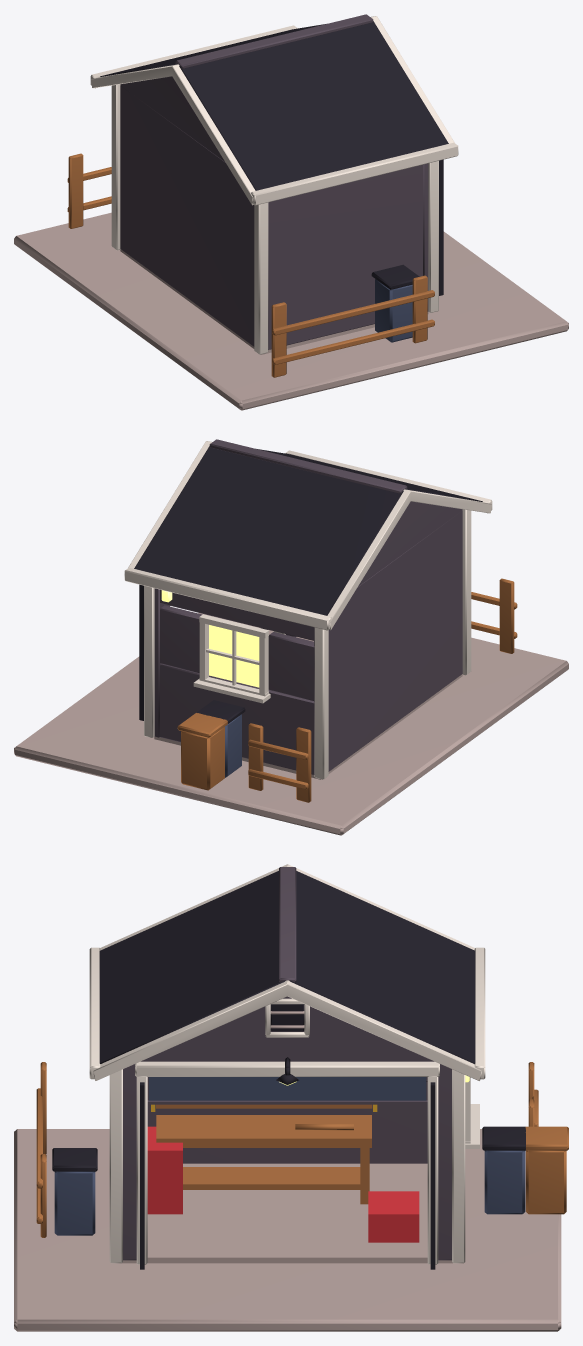
3 renders of one model, top to bottom at view 1: azimuth 30°, elevation 25°; view 2: azimuth 150°, elevation 25°; view 3: azimuth 270°, elevation 25°, orthographic. The views are drawn at different scales.
Parts seen in each view (by area): view 1: body_pal_asphalt, body_pal_sidewalk, roof_pal_uiDark, roof_pal_picketWhite, body_pal_woodWarm, body_pal_picketWhite, roof_pal_asphalt, body_pal_denim, interior_pal_sidewalk, body_pal_uiDark, interior_pal_uiDark; view 2: body_pal_asphalt, body_pal_sidewalk, roof_pal_uiDark, roof_pal_picketWhite, body_pal_woodWarm, body_pal_picketWhite, window_side_pal_picketWhite, window_side_emi_windowGlow, roof_pal_asphalt, body_pal_denim, interior_pal_sidewalk, interior_pal_uiDark (+1 smaller); view 3: body_pal_sidewalk, roof_pal_uiDark, body_pal_asphalt, interior_pal_sidewalk, body_pal_picketWhite, interior_pal_woodWarm, roof_pal_picketWhite, door_main_pal_denim, body_pal_woodWarm, interior_pal_survivorRed, body_pal_denim, body_pal_uiDark (+4 smaller).
Part boxes in pixels (x1,y1,x2,y2): body_pal_asphalt: (120,76,428,349); body_pal_sidewalk: (14,212,568,410); roof_pal_uiDark: (100,21,448,190); roof_pal_picketWhite: (90,16,458,205); body_pal_woodWarm: (67,153,434,377); body_pal_picketWhite: (111,84,438,354); roof_pal_asphalt: (175,14,373,68); body_pal_denim: (375,279,412,342); interior_pal_sidewalk: (120,249,428,354); body_pal_uiDark: (371,264,419,289); interior_pal_uiDark: (439,159,443,295); body_pal_asphalt: (154,501,462,774); body_pal_sidewalk: (14,613,568,835); roof_pal_uiDark: (134,446,482,615); roof_pal_picketWhite: (124,441,492,630); body_pal_woodWarm: (177,578,517,802); body_pal_picketWhite: (144,509,471,779); window_side_pal_picketWhite: (193,614,270,703); window_side_emi_windowGlow: (209,625,259,687); roof_pal_asphalt: (209,439,407,493); body_pal_denim: (224,714,241,777); interior_pal_sidewalk: (154,637,462,779); interior_pal_uiDark: (139,584,267,720); body_pal_sidewalk: (14,1129,561,1331); roof_pal_uiDark: (99,871,475,1064); body_pal_asphalt: (123,996,451,1260); interior_pal_sidewalk: (122,1163,452,1263); body_pal_picketWhite: (109,1061,465,1264); interior_pal_woodWarm: (156,1104,372,1204); roof_pal_picketWhite: (89,864,485,1080); door_main_pal_denim: (149,1077,426,1100); body_pal_woodWarm: (36,1062,568,1237); interior_pal_survivorRed: (147,1126,419,1242); body_pal_denim: (54,1150,525,1235); body_pal_uiDark: (52,1126,525,1171).
Bounding box in the file's own units: 5.85 × 4.29 × 7.1.
